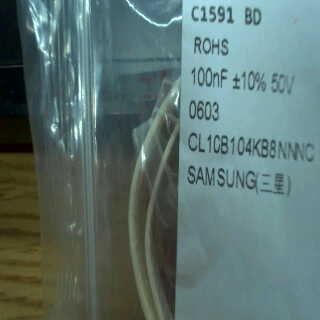100nF: (188, 62, 233, 89)
